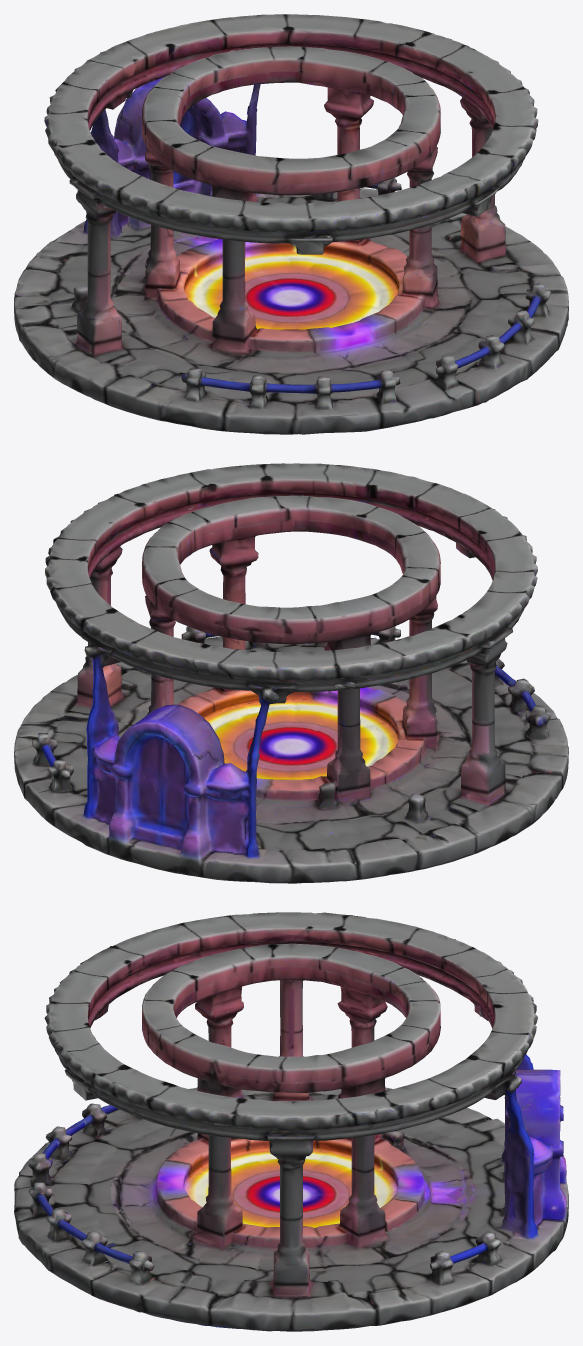
Rendered from gazebo_mobile.glb.
3 views of the same model, one above another, from view 1: azimuth 30°, elevation 25°; view 2: azimuth 150°, elevation 25°; view 3: azimuth 270°, elevation 25° (orthographic).
Bounding box in the file's own units: 1.92 × 0.7988 × 1.92.
1 material, 1 textured.
